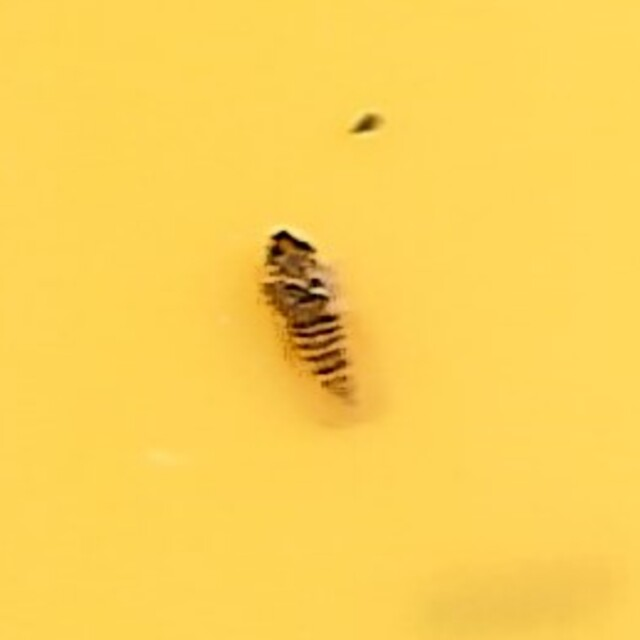Hemiptera: (247, 218, 393, 422)
